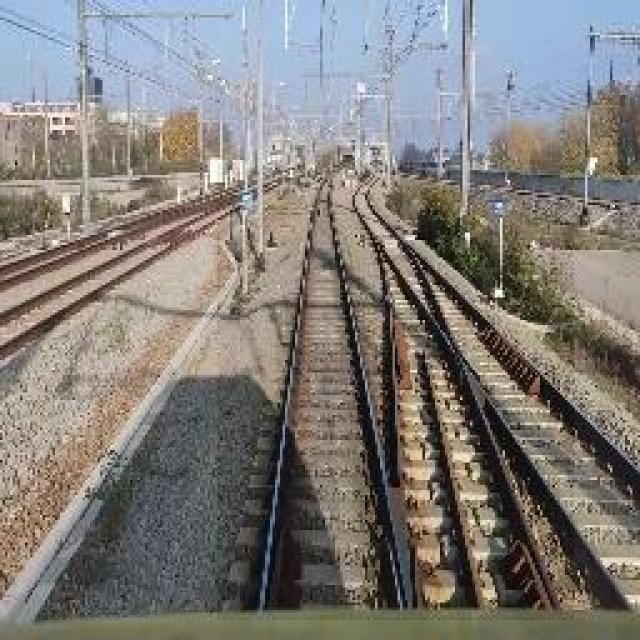rail: (218, 172, 575, 621)
